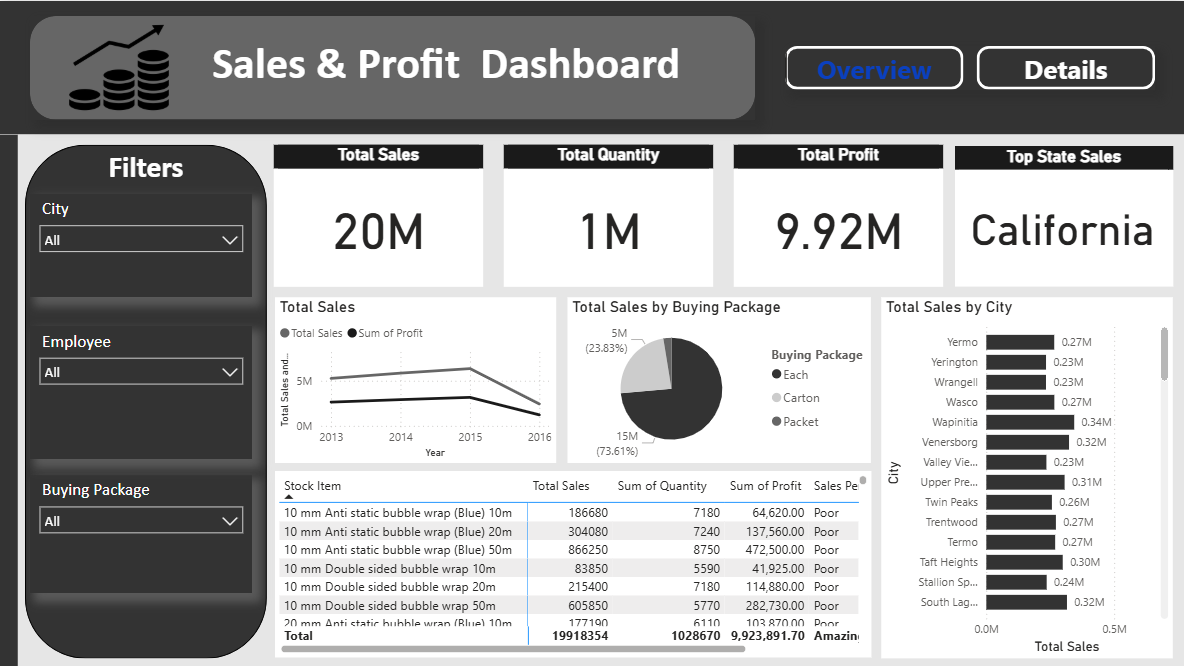

The dashboard page shown, as its layout file describes it:
{"tool":"powerbi","page":{"name":"Overview","canvas":[1280,720],"ordinal":0},"visuals":[{"type":"shape","box":[0,0,1280.3,144.1],"z":0},{"type":"shape","box":[0,144.1,19.2,576.3],"z":1000},{"type":"shape","box":[27,154.9,261.4,555.5],"z":2000},{"type":"textbox","box":[82.4,154.9,150.6,55.4],"z":3000},{"type":"slicer","fields":{"Values":["DimEmployee.Employee"]},"box":[32,352,240,144],"z":4000},{"type":"slicer","fields":{"Values":["DimCity.City"]},"box":[32,208,240,112],"z":5000},{"type":"slicer","fields":{"Values":["DimStockItem.Buying Package"]},"box":[32,512,240,128],"z":6000},{"type":"card","title":"Total Sales","fields":{"Values":["FactSale.Total Sales"]},"box":[296.5,155.4,226.6,153.9],"z":7000},{"type":"card","title":"Total Quantity","fields":{"Values":["Sum(FactSale.Quantity)"]},"box":[545,155.4,226.6,153.9],"z":8000},{"type":"card","title":"Total Profit","fields":{"Values":["Sum(FactSale.Profit)"]},"box":[793.5,155.2,226.6,153.9],"z":9000},{"type":"lineChart","title":"Total Sales","fields":{"Y":["Sum(FactSale.Total Excluding Tax)","Sum(FactSale.Profit)"],"Category":["DimDate.Date.Variation.Date Hierarchy.Year"]},"box":[296.9,319.6,304,179],"z":10000},{"type":"barChart","fields":{"Category":["DimCity.State Province Hierarchy.State Province","DimCity.State Province Hierarchy.City"],"Y":["FactSale.Total Sales"]},"box":[953.3,319.6,315.4,390.7],"z":11000},{"type":"pieChart","fields":{"Category":["DimStockItem.Buying Package"],"Y":["FactSale.Total Sales"]},"box":[613.7,319.6,328.2,179],"z":12000},{"type":"pivotTable","fields":{"Rows":["DimStockItem.Stock Item"],"Values":["FactSale.Total Sales","Sum(FactSale.Quantity)","Sum(FactSale.Profit)","FactSale.Sales Perf."]},"box":[296.9,508.6,645,201.7],"z":13000},{"type":"shape","box":[32,16,784,112],"z":14000},{"type":"textbox","box":[224,32,560,80],"z":15000},{"type":"image","box":[48,0,160,144],"z":16000},{"type":"cardVisual","title":"Top State Sales","fields":{"Data":["Min(DimCity.State Province)"]},"box":[1032.8,156.3,235.8,152],"z":17000},{"type":"pageNavigator","box":[848,48,400,48],"z":18000}]}

Visuals, with their boxes in screenshot pixels (x1, y1, x2, y2), scaled from the page's 1280x720 canvas onto the 1184x666 screenshot:
shape: BBox(0, 0, 1183, 133)
shape: BBox(0, 133, 18, 665)
shape: BBox(25, 143, 267, 657)
textbox: BBox(76, 143, 216, 195)
slicer - DimEmployee.Employee: BBox(30, 326, 252, 459)
slicer - DimCity.City: BBox(30, 192, 252, 296)
slicer - DimStockItem.Buying Package: BBox(30, 474, 252, 592)
"Total Sales" card: BBox(274, 144, 484, 286)
"Total Quantity" card: BBox(504, 144, 714, 286)
"Total Profit" card: BBox(734, 144, 944, 286)
"Total Sales" lineChart: BBox(275, 296, 556, 461)
barChart - DimCity.State Province Hierarchy.State Province x DimCity.State Province Hierarchy.City: BBox(882, 296, 1174, 657)
pieChart - DimStockItem.Buying Package x FactSale.Total Sales: BBox(568, 296, 871, 461)
pivotTable - DimStockItem.Stock Item x FactSale.Total Sales: BBox(275, 470, 871, 657)
shape: BBox(30, 15, 755, 118)
textbox: BBox(207, 30, 725, 104)
image: BBox(44, 0, 192, 133)
"Top State Sales" cardVisual: BBox(955, 145, 1173, 285)
pageNavigator: BBox(784, 44, 1154, 89)
